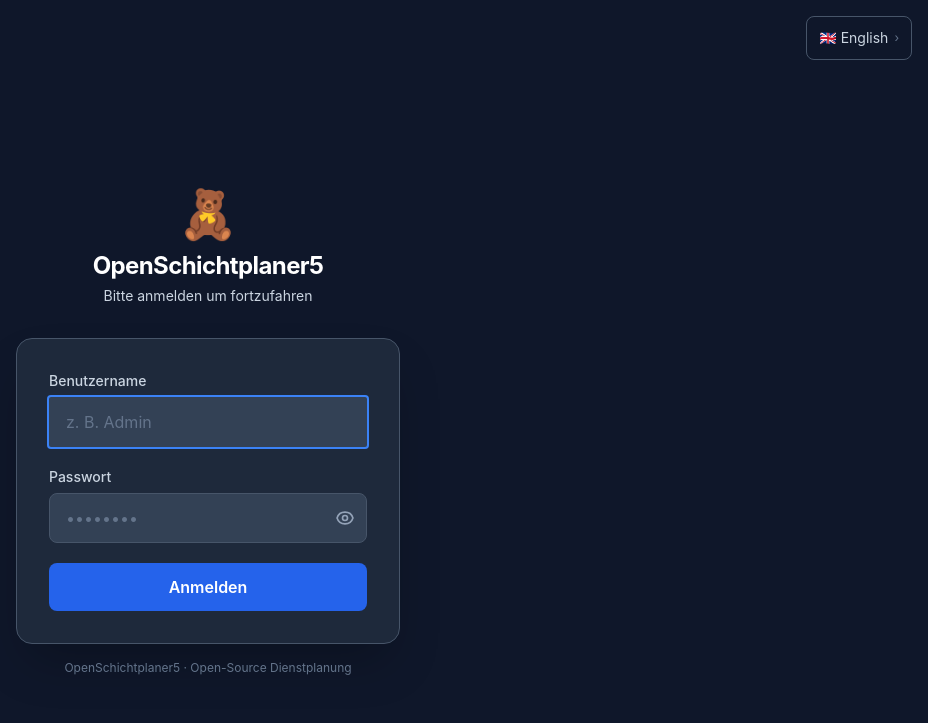
Test: Login › shows error when submitting empty username
Click the button "Anmelden": (208, 587) left=49, top=563, right=367, bottom=611
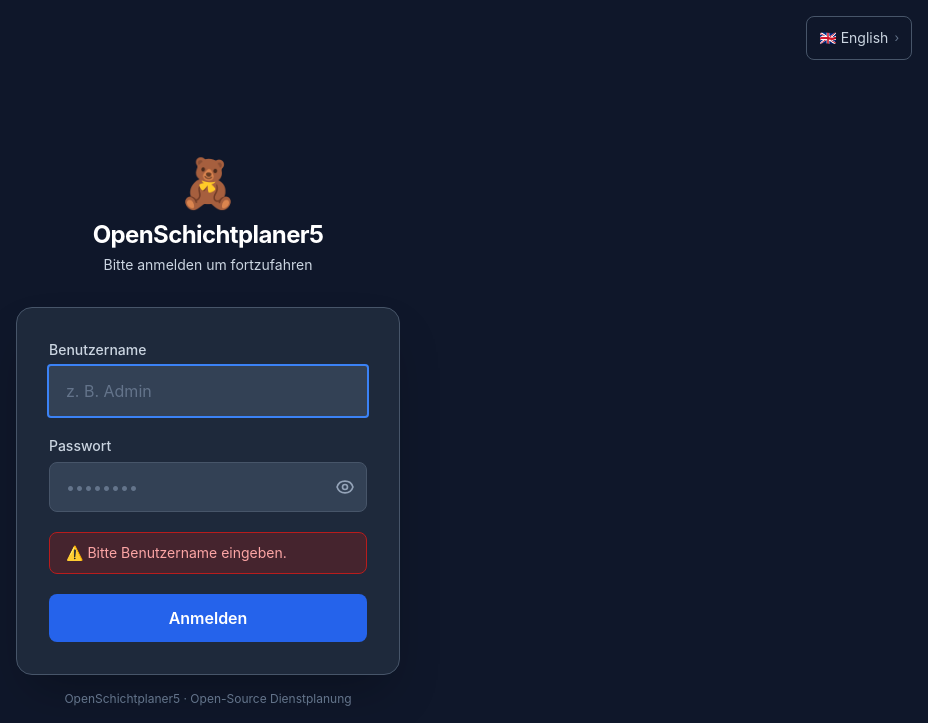
Expected: the text "⚠️ Bitte Benutzername eingeben." is shown, left=49, top=532, right=367, bottom=574
